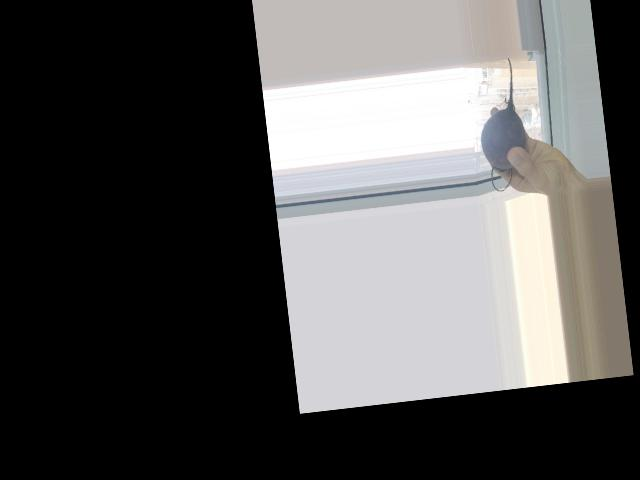beet: (472, 56, 531, 192)
